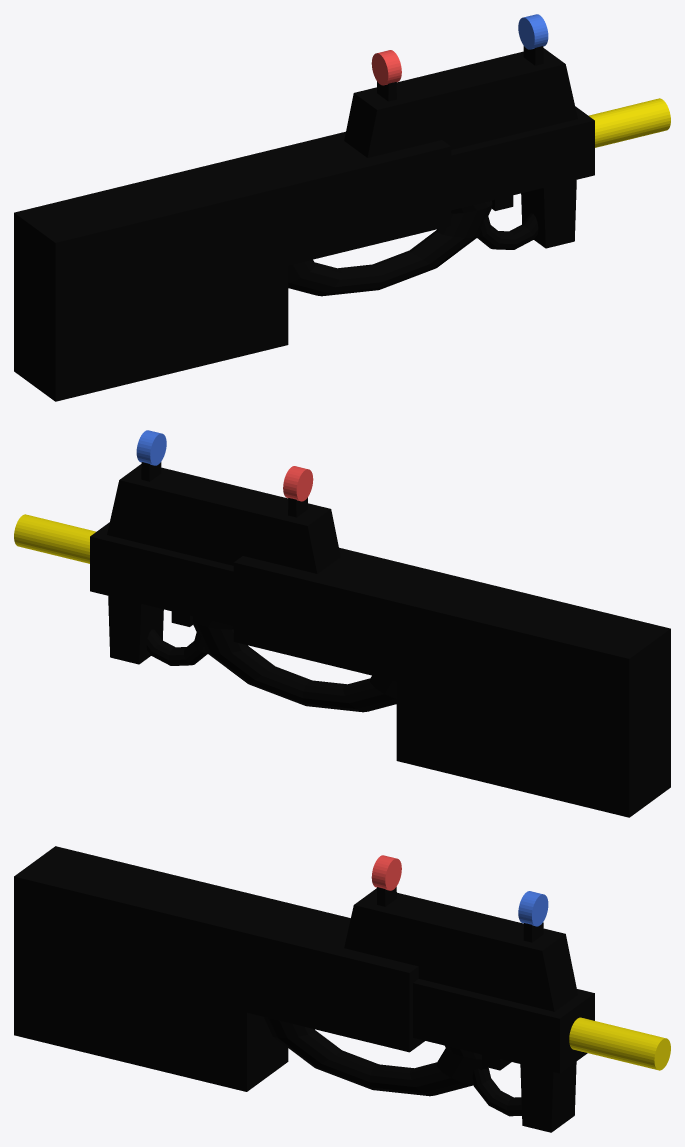
The picture shows the model from 3 angles, top to bottom: view 1: azimuth 30°, elevation 25°; view 2: azimuth 150°, elevation 25°; view 3: azimuth 330°, elevation 25°; orthographic projection.
Parts seen in each view (by area): view 1: Cube_025; view 2: Cube_025; view 3: Cube_025.
Boxes of the visible parts, x1,y1,x2,y2 form: Cube_025: [14, 14, 670, 401]; Cube_025: [14, 430, 670, 817]; Cube_025: [14, 846, 670, 1132].
Bounding box in the file's own units: 8.28 × 3.12 × 0.9478.
